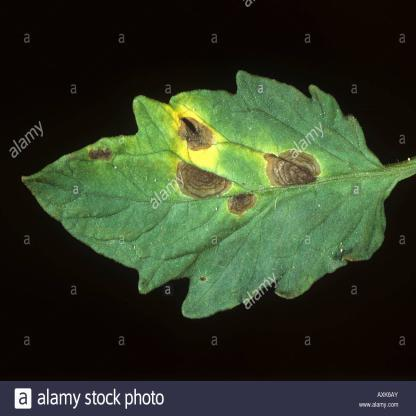Potato leaf late blight: (18, 66, 394, 315)
